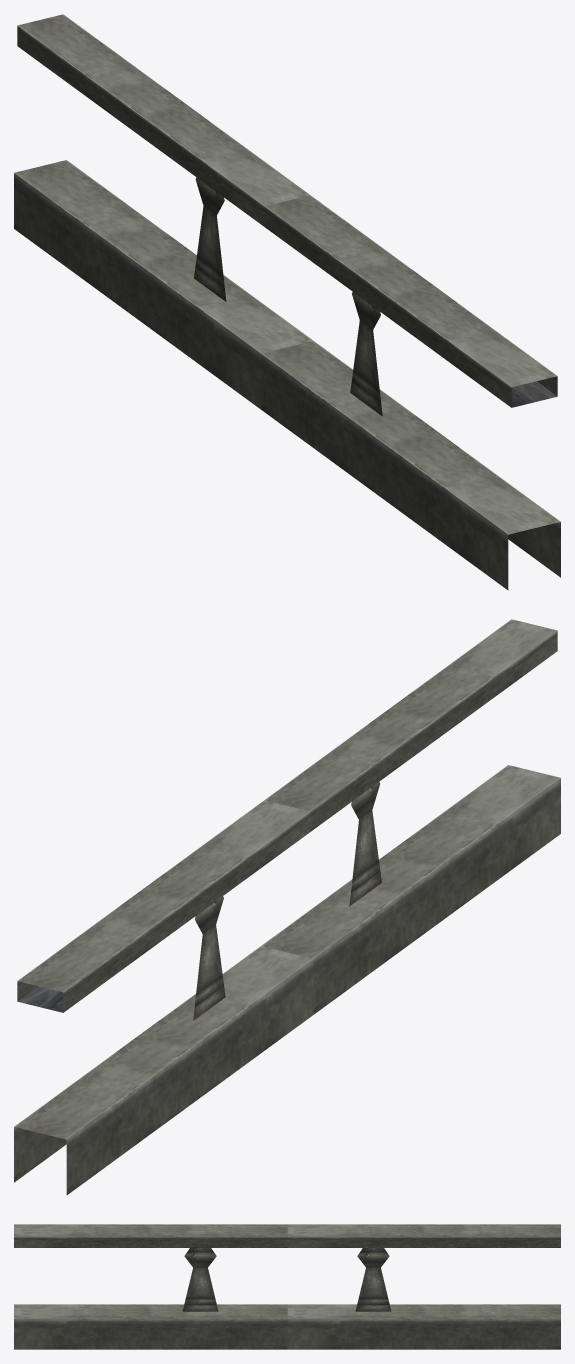
The model's file is SC_guowangchengbao_15.FBX.
The picture shows the model from 3 angles, top to bottom: view 1: azimuth 30°, elevation 25°; view 2: azimuth 150°, elevation 25°; view 3: azimuth 270°, elevation 25°; orthographic projection. The views are drawn at different scales.
Parts seen in each view (by area): view 1: SC_guowangchengbao_15; view 2: SC_guowangchengbao_15; view 3: SC_guowangchengbao_15.
Boxes of the visible parts, bbox=[...] form: SC_guowangchengbao_15: bbox=[14, 14, 560, 590]; SC_guowangchengbao_15: bbox=[14, 619, 560, 1195]; SC_guowangchengbao_15: bbox=[14, 1224, 560, 1349].
Size of the model in its own units: 30.1 by 111 by 490.
